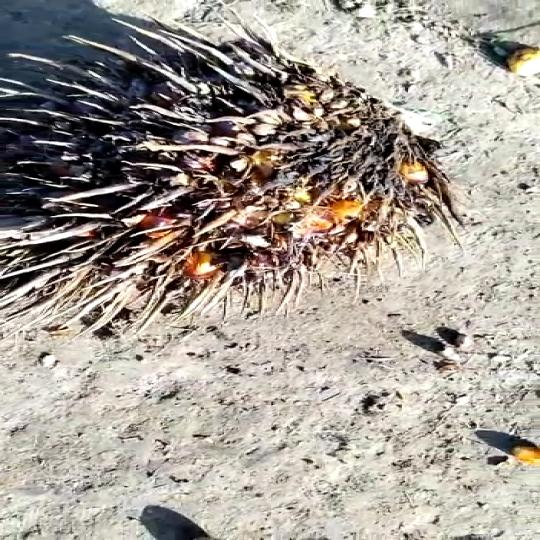terlalu masak: (0, 9, 478, 329)
